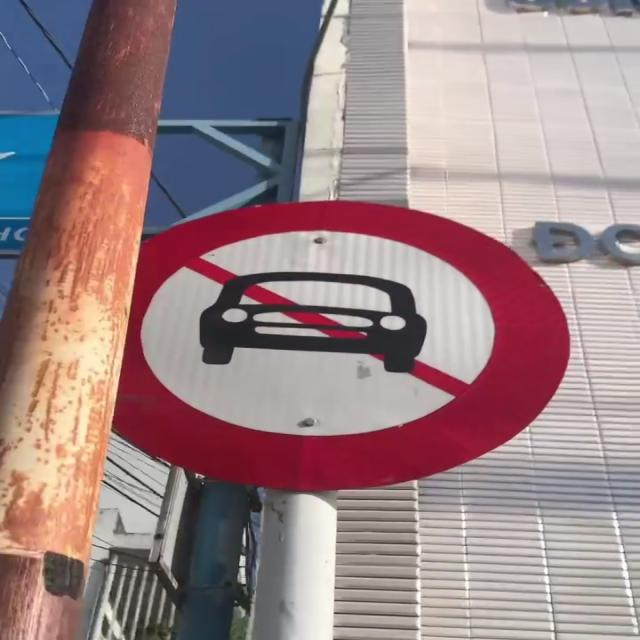Cam_O_To: (109, 200, 578, 493)
